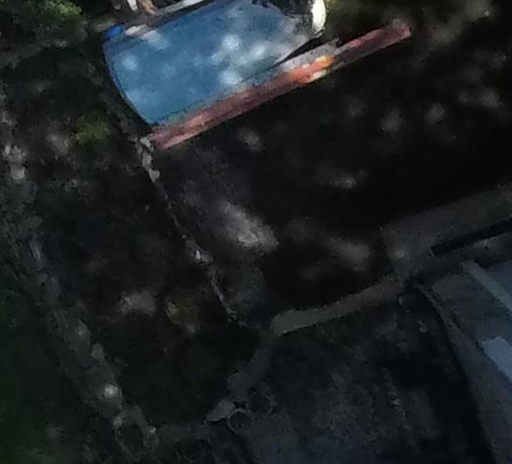container: (243, 388, 278, 419), (225, 406, 252, 435)
